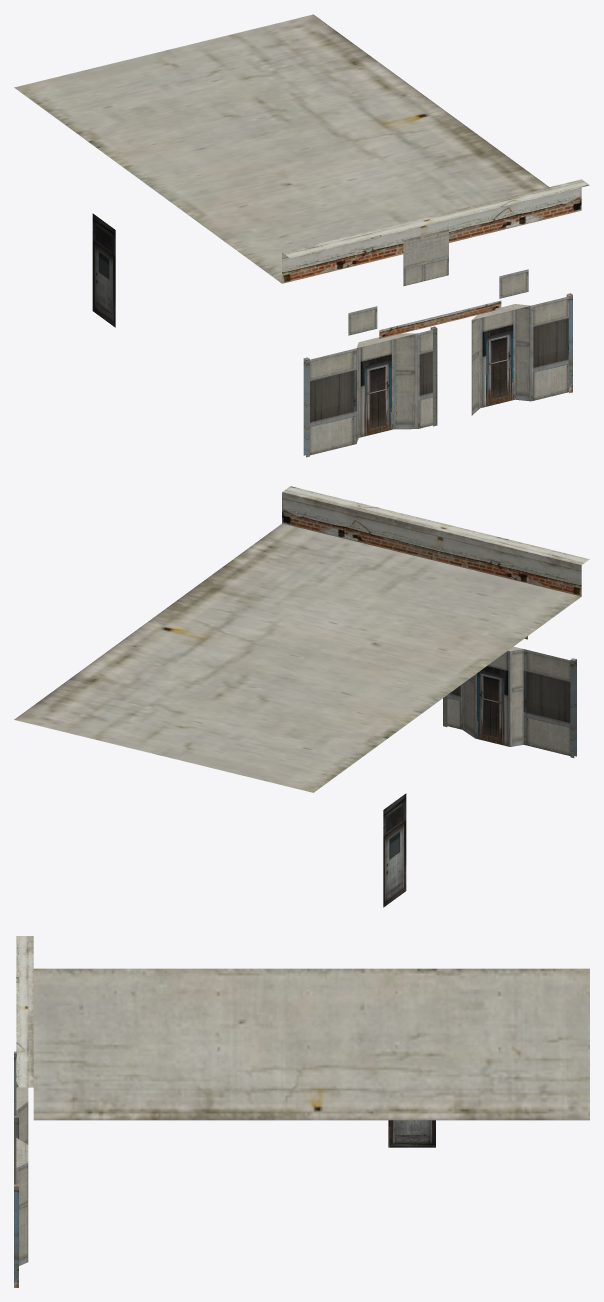
Rendered from rural_storesmall_8_rural_facade_flr_2_0_lev2.glb.
3 renders of one model, top to bottom at view 1: azimuth 30°, elevation 25°; view 2: azimuth 150°, elevation 25°; view 3: azimuth 270°, elevation 25°, orthographic. The views are drawn at different scales.
Visible parts, largest first — view 1: rural_storesmall_8_rural_facade_flr_2_0_lev2; view 2: rural_storesmall_8_rural_facade_flr_2_0_lev2; view 3: rural_storesmall_8_rural_facade_flr_2_0_lev2.
Boxes of the visible parts, x1,y1,x2,y2 form: rural_storesmall_8_rural_facade_flr_2_0_lev2: [14, 14, 589, 457]; rural_storesmall_8_rural_facade_flr_2_0_lev2: [14, 486, 589, 907]; rural_storesmall_8_rural_facade_flr_2_0_lev2: [14, 936, 589, 1287].
Bounding box in the file's own units: 8.89 × 5.72 × 14.27.
Materials: 1 (1 with a texture image).
